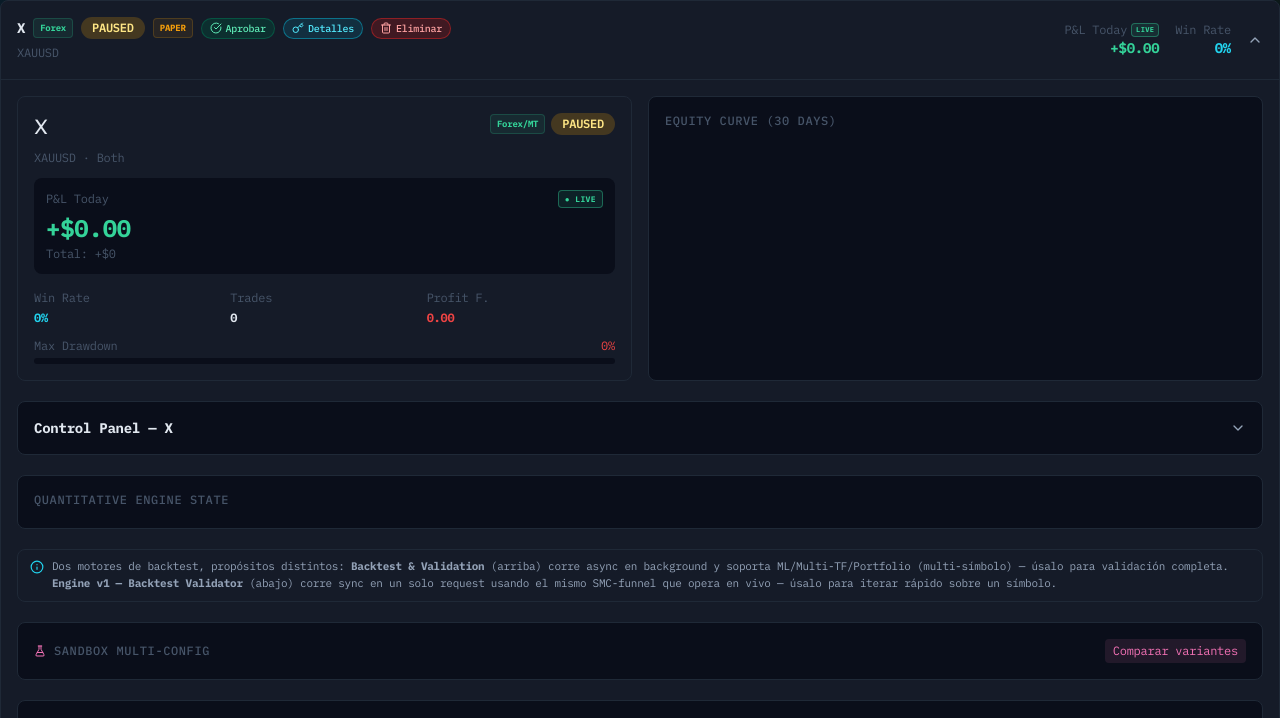
Test: AlgoAccordion › Approve click POSTs to /approve and updates the lifecycle badge to 'approved'
Click the button with aria-label "Aprobar X": (238, 28) [201,18,275,38]
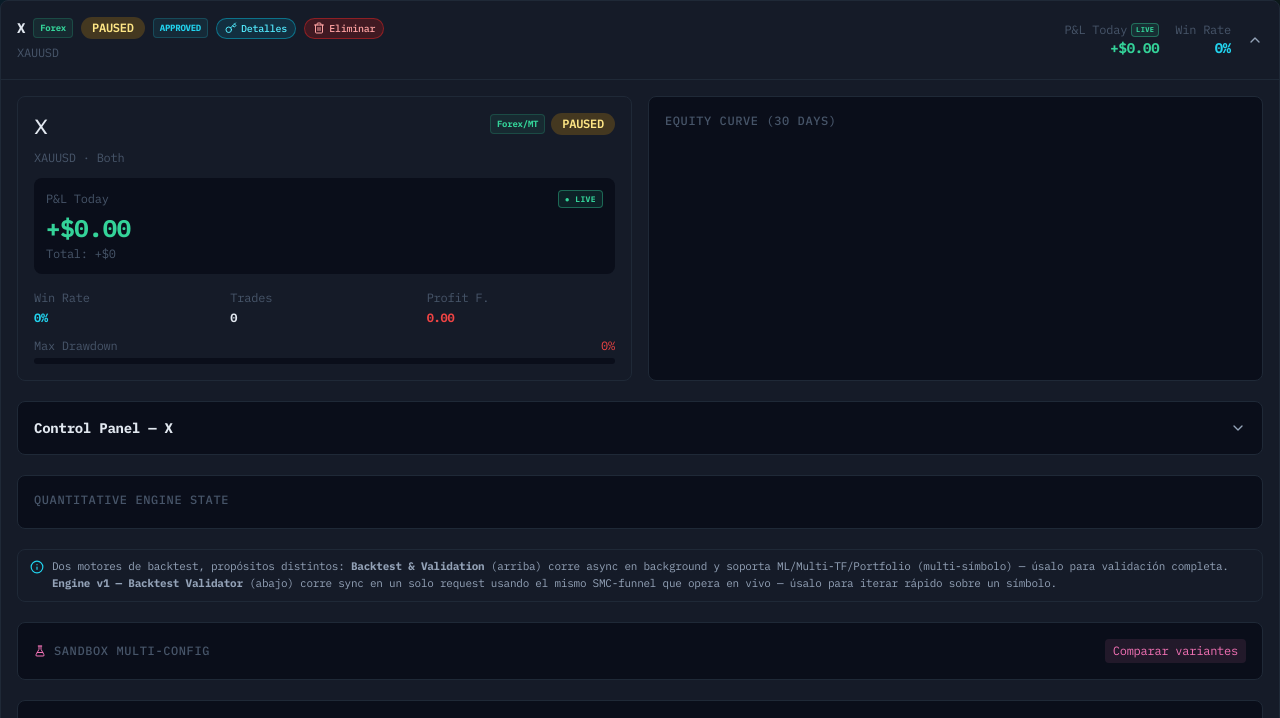
Expected: the text "approved" is shown, [153,18,208,38]
